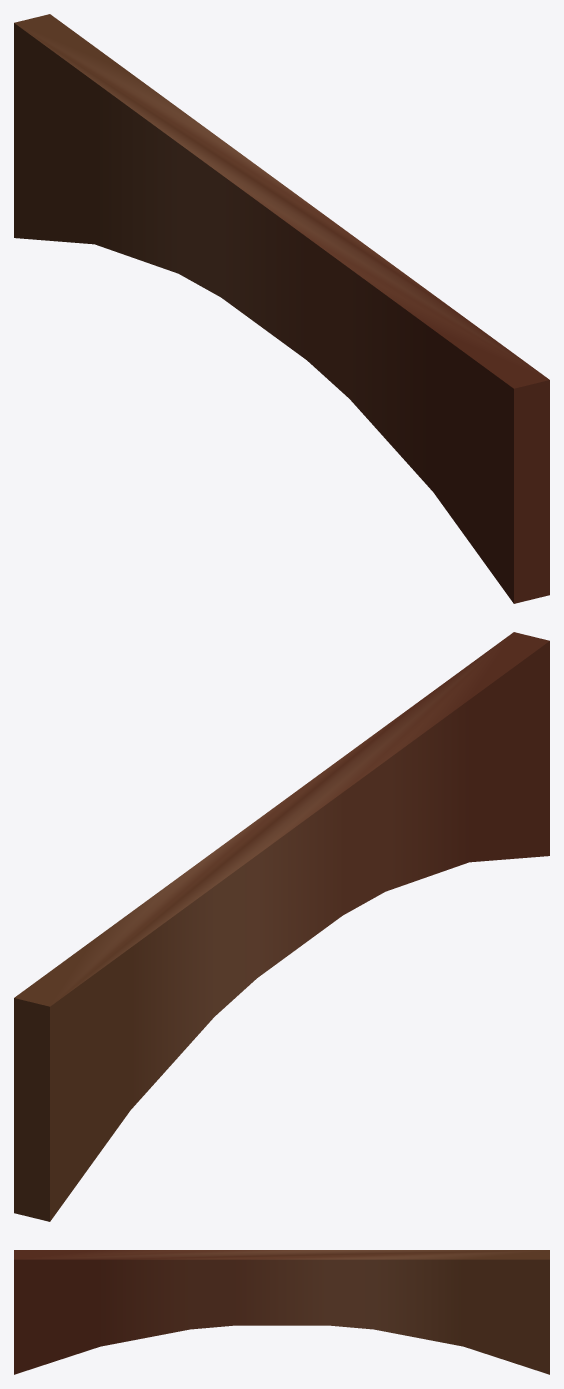
File: Ceiling_HomeA-CeilingArchA_COL.fbx
3 views of the same model, one above another, from view 1: azimuth 30°, elevation 25°; view 2: azimuth 150°, elevation 25°; view 3: azimuth 270°, elevation 25° (orthographic). The views are drawn at different scales.
Visible parts, largest first — view 1: Ceiling_HomeA-CeilingArchA_COL; view 2: Ceiling_HomeA-CeilingArchA_COL; view 3: Ceiling_HomeA-CeilingArchA_COL.
Boxes of the visible parts, box(x1,y1,x2,y2) form: Ceiling_HomeA-CeilingArchA_COL: box(14, 14, 549, 603); Ceiling_HomeA-CeilingArchA_COL: box(14, 632, 549, 1221); Ceiling_HomeA-CeilingArchA_COL: box(14, 1250, 549, 1374).
Size of the model in its own units: 25 by 142 by 600.
